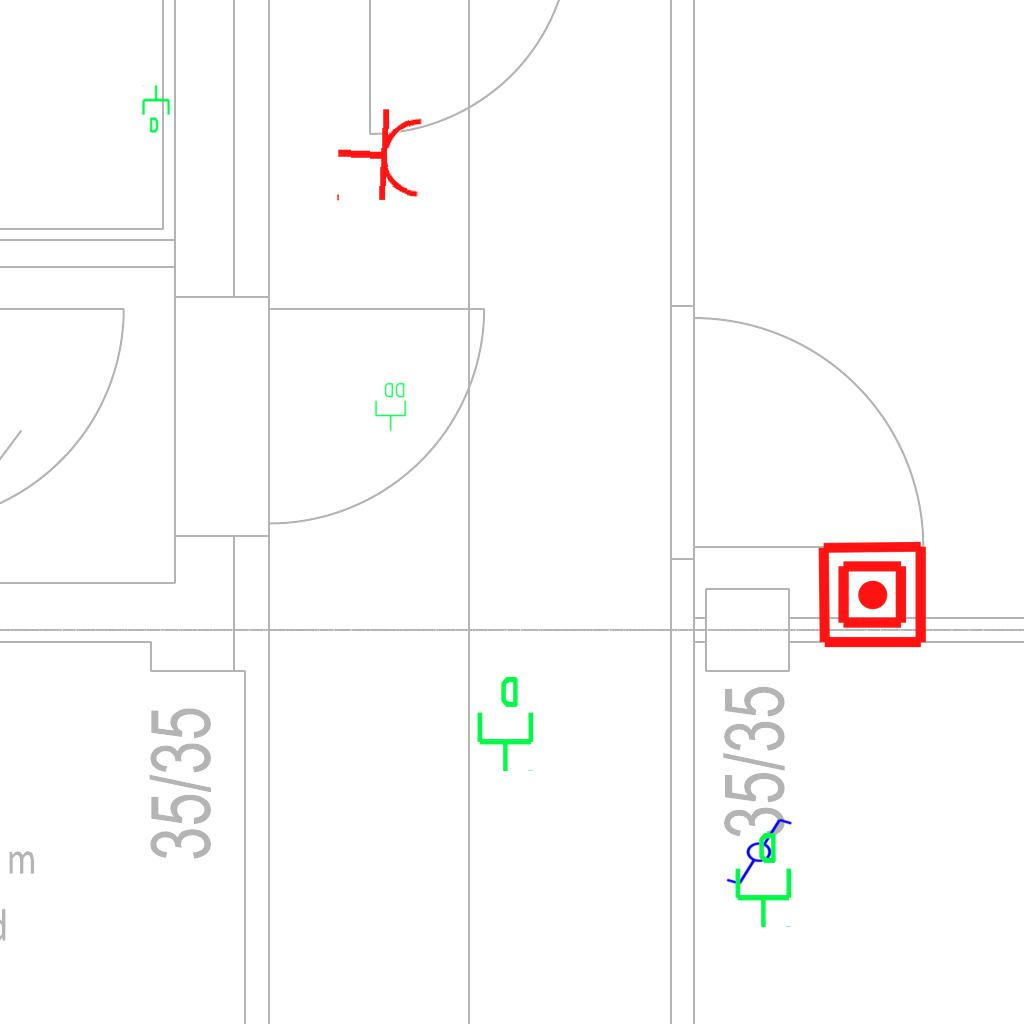Datenanschluss_einfach: (469, 674, 538, 774), (727, 830, 796, 930), (140, 84, 174, 134)
Datenanschluss_zweifach: (374, 381, 408, 432)
NAM-Nichtautomatischer_Melder: (816, 538, 929, 651)
Schukosteckdose_einfach: (333, 104, 426, 210)
Wechselschalter: (716, 815, 794, 887)
